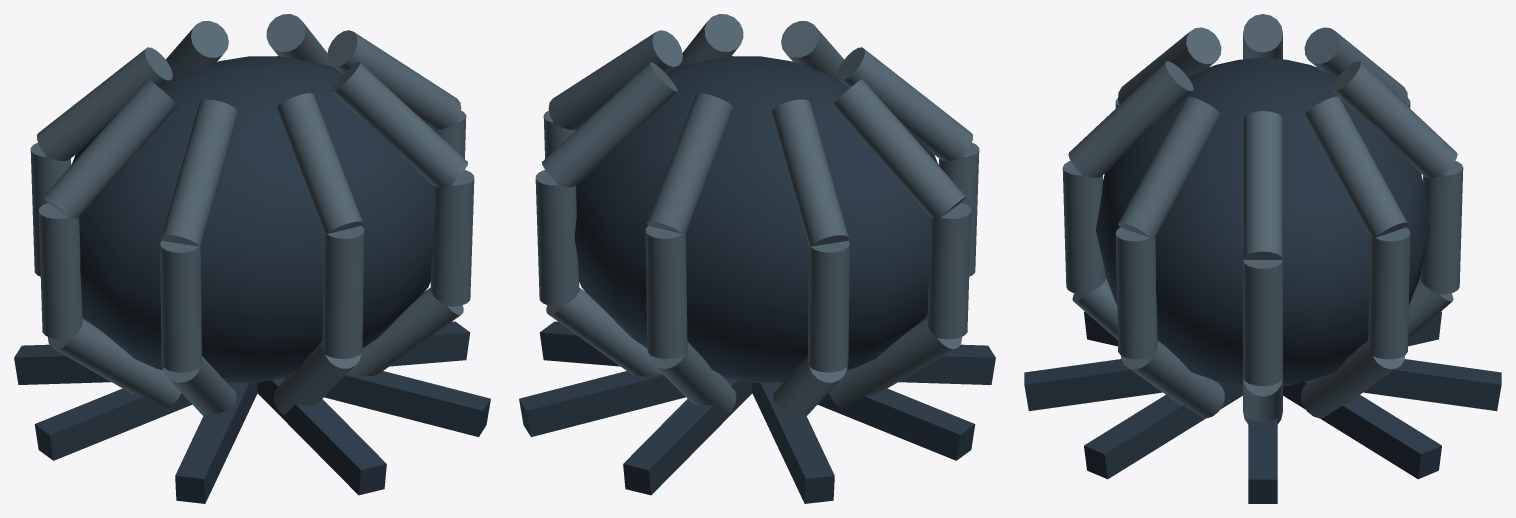
Rendered from CMU3DHiveHiveEggMorpherXeno.glb.
3 renders of one model, left to right at view 1: azimuth 30°, elevation 25°; view 2: azimuth 150°, elevation 25°; view 3: azimuth 270°, elevation 25°, orthographic.
Parts seen in each view (by area): view 1: raised curved organ rib (×18), complete organ body, anchoring root (×6); view 2: raised curved organ rib (×18), complete organ body, anchoring root (×6); view 3: raised curved organ rib (×18), complete organ body, anchoring root (×7).
Boxes of the visible parts, x1=… form: raised curved organ rib (×18): x1=30, y1=14, x2=474, y2=415; complete organ body: x1=71, y1=56, x2=435, y2=382; anchoring root (×6): x1=14, y1=321, x2=490, y2=503; raised curved organ rib (×18): x1=535, y1=14, x2=979, y2=415; complete organ body: x1=574, y1=56, x2=938, y2=382; anchoring root (×6): x1=519, y1=321, x2=995, y2=503; raised curved organ rib (×18): x1=1062, y1=14, x2=1463, y2=424; complete organ body: x1=1095, y1=57, x2=1430, y2=386; anchoring root (×7): x1=1024, y1=311, x2=1501, y2=503.
Bounding box in the file's own units: 0.9124 × 0.7195 × 0.9085.
